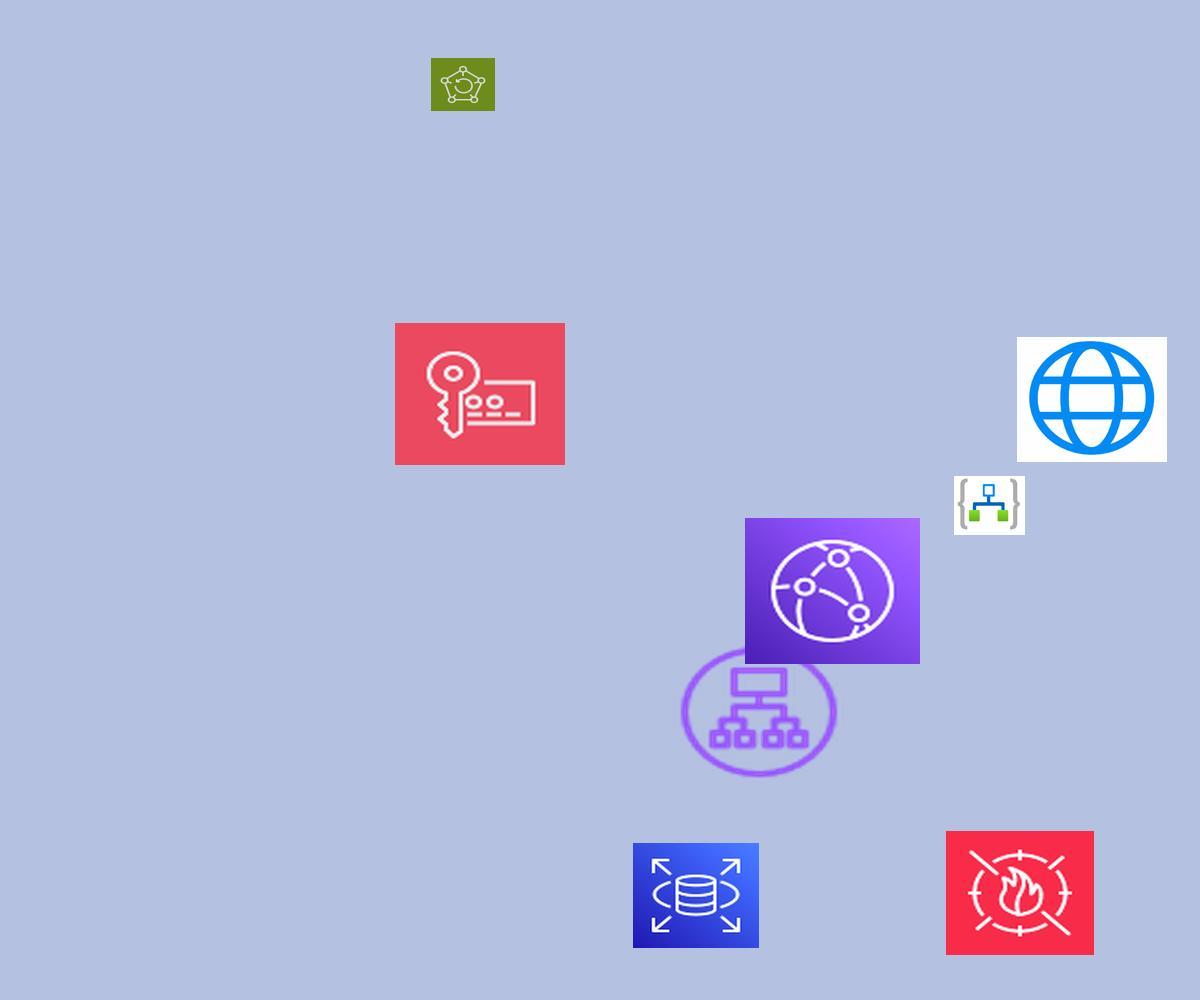AWS-Backup: (431, 58, 495, 111)
AWS-CloudFront: (745, 518, 920, 664)
AWS-Key-Management-Service: (395, 323, 565, 465)
AWS-RDS: (633, 843, 759, 948)
AWS-Res_Elastic-Load-Balancing_Application-Load-Balancer: (674, 641, 844, 783)
AWS-WAF: (946, 831, 1094, 955)
Azure_http: (1017, 337, 1167, 462)
Azure_integration-204-Logic-Apps: (954, 476, 1025, 535)
